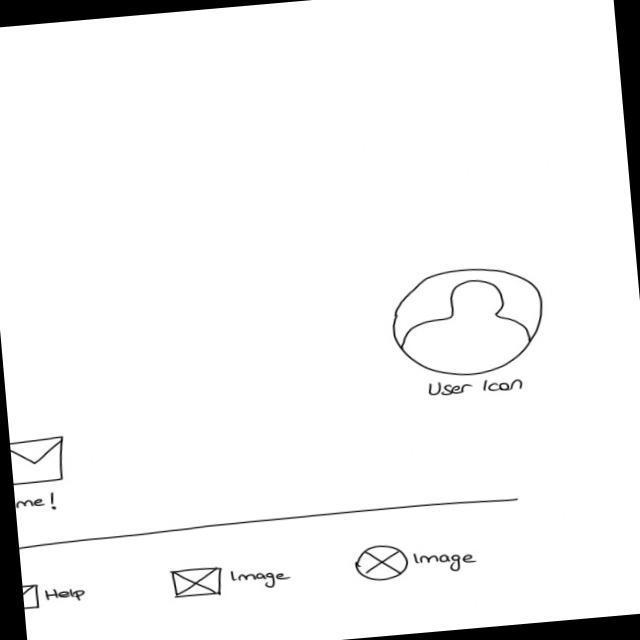image: (352, 543, 411, 585), (169, 564, 228, 602)
label: (420, 374, 528, 404), (412, 547, 481, 577), (230, 565, 294, 594), (15, 489, 65, 515), (44, 584, 90, 605)
